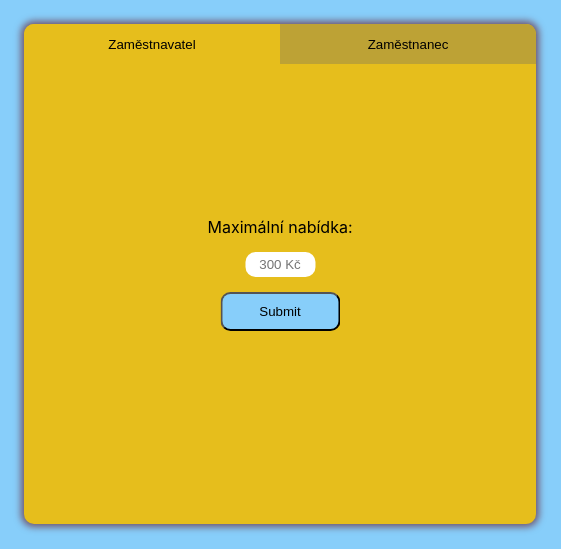
Test: Integration tests › click on reset btn set default state of the app
The image size is (561, 549).
In the number field: (280, 264) [245,252,315,277], type "200"
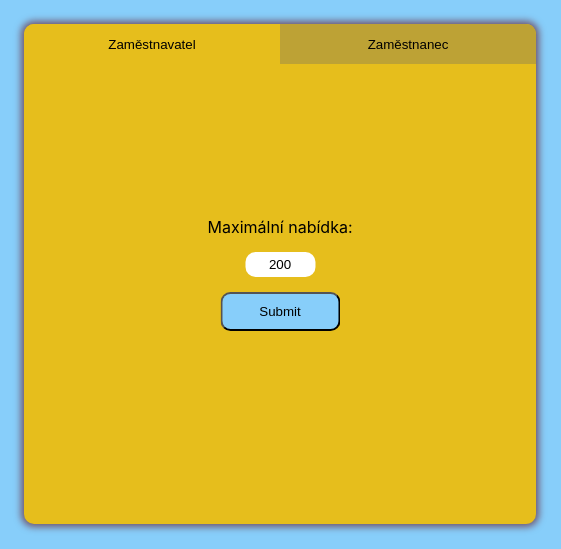
Click the button "Submit": (280, 312) [220,292,340,331]
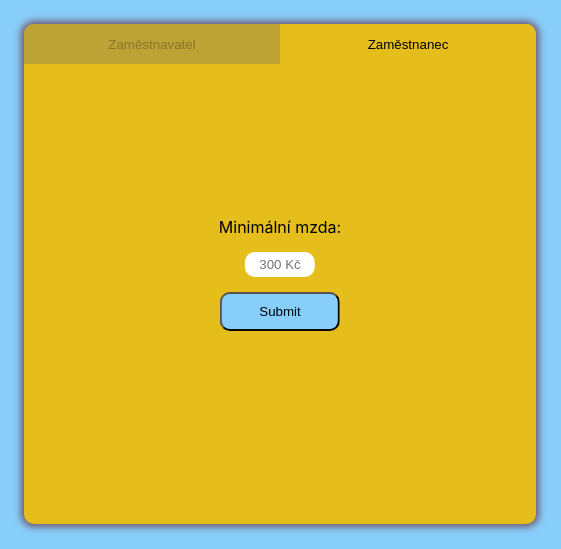
In the number field: (280, 264) [245,252,315,277], type "200"
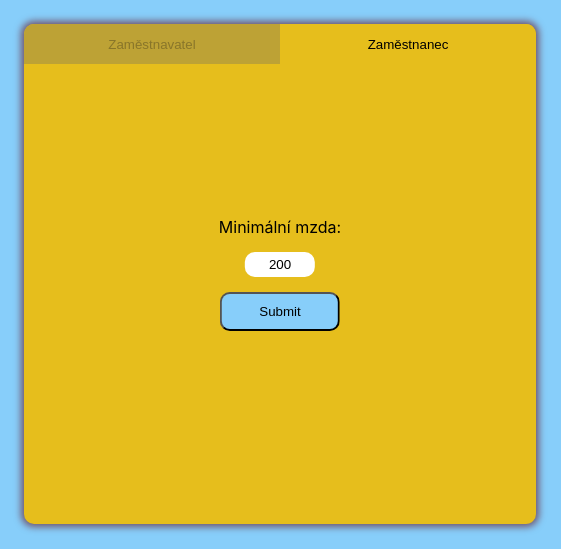
Click the button "Submit": (280, 312) [220,292,340,331]
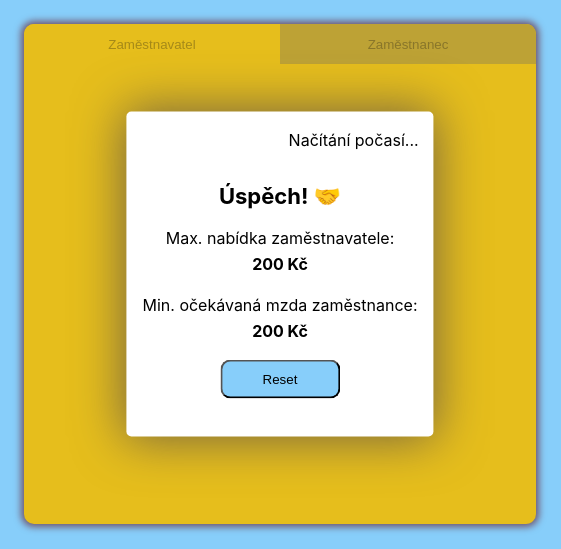
Click the button "Reset": (280, 379) [220,360,340,399]
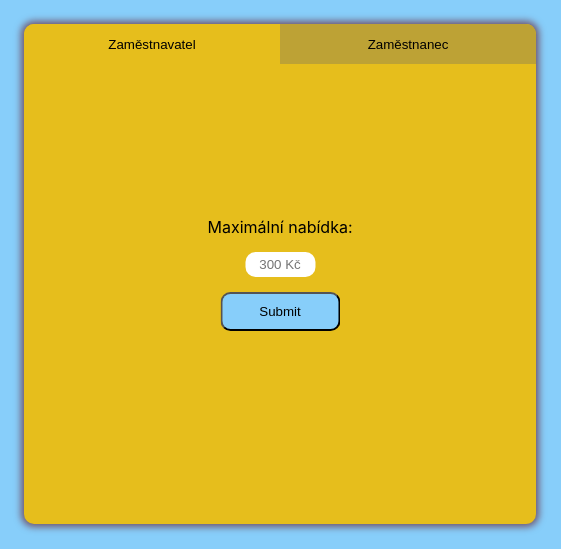
Now the number field is empty, box [245,252,315,277]
Now the button "Zaměstnavatel" is enabled, box [24,24,280,64]
Now the button "Zaměstnanec" is enabled, box [280,24,536,64]
